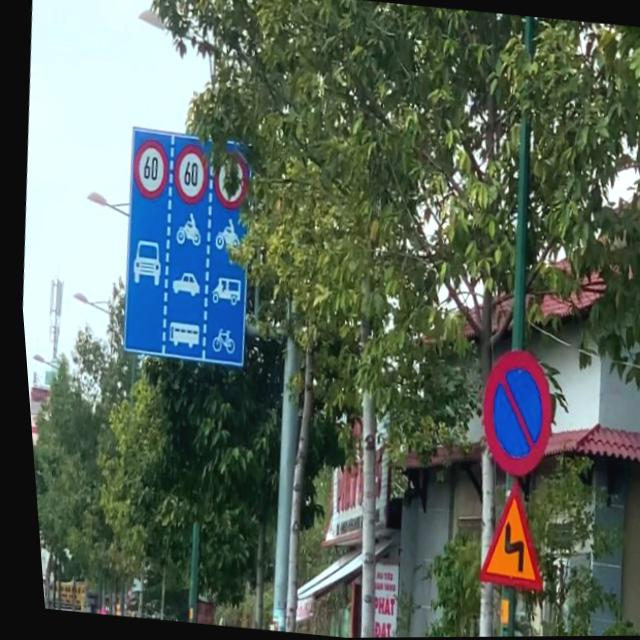Cam do xe: (466, 332, 559, 484)
Nhieu cho ngoat lien tiep ben trai: (458, 469, 551, 598)
Toc do toi da cho phep: (124, 128, 171, 213), (166, 137, 213, 208)
